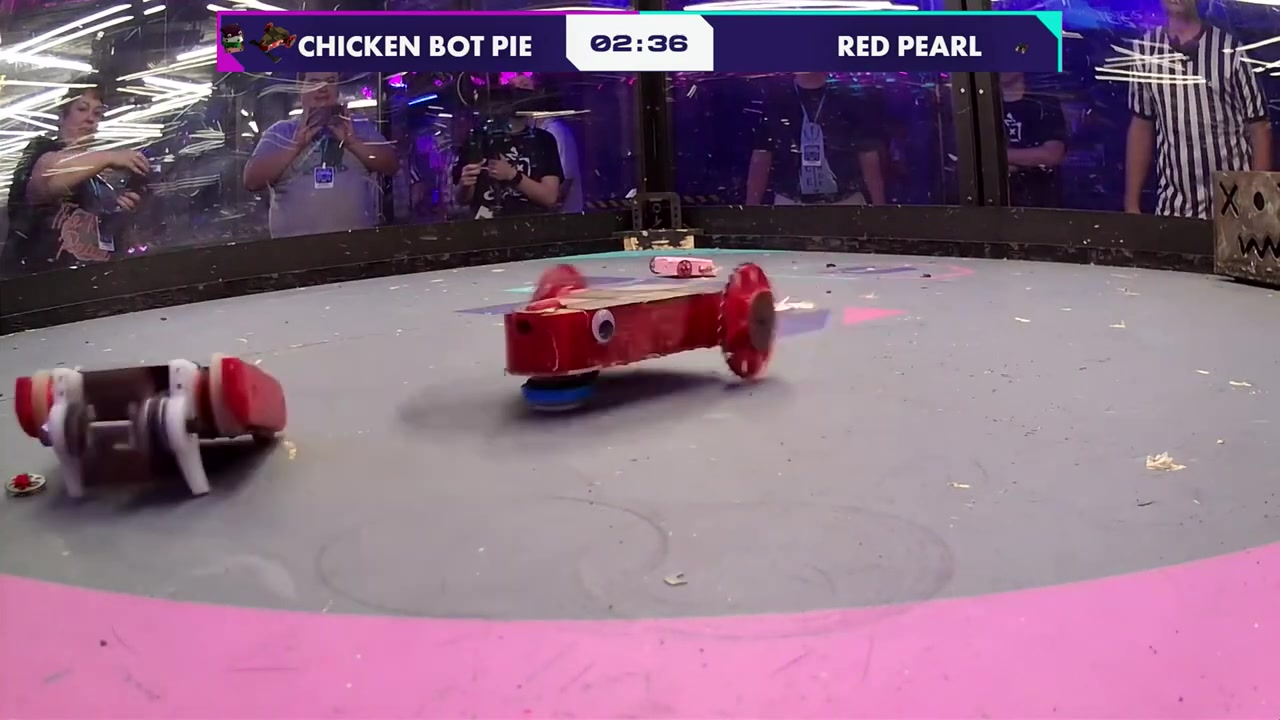combatbot: (502, 261, 777, 414), (13, 353, 288, 499), (0, 82, 101, 200)
debris: (7, 465, 53, 501)
housebot: (1211, 172, 1280, 293)
minibot: (649, 253, 716, 278)
